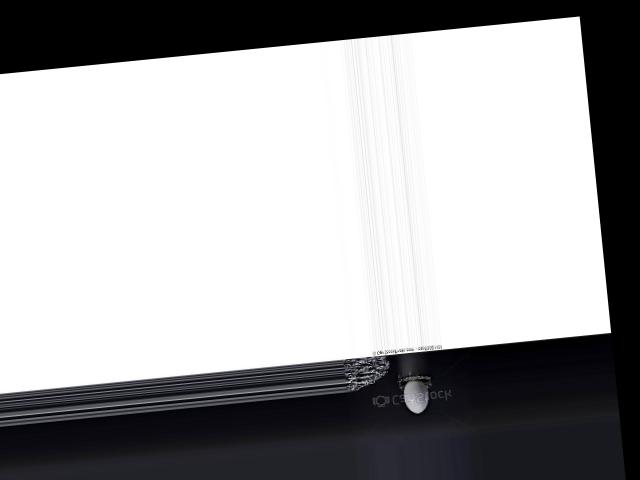egg: (402, 378, 430, 413)
